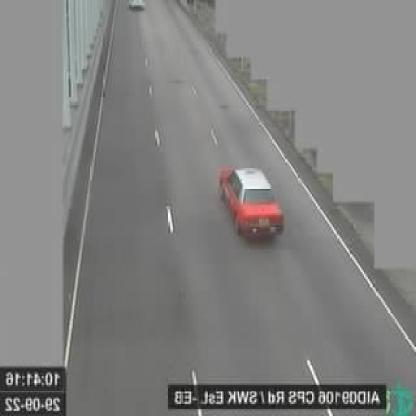Car: (218, 163, 286, 243)
